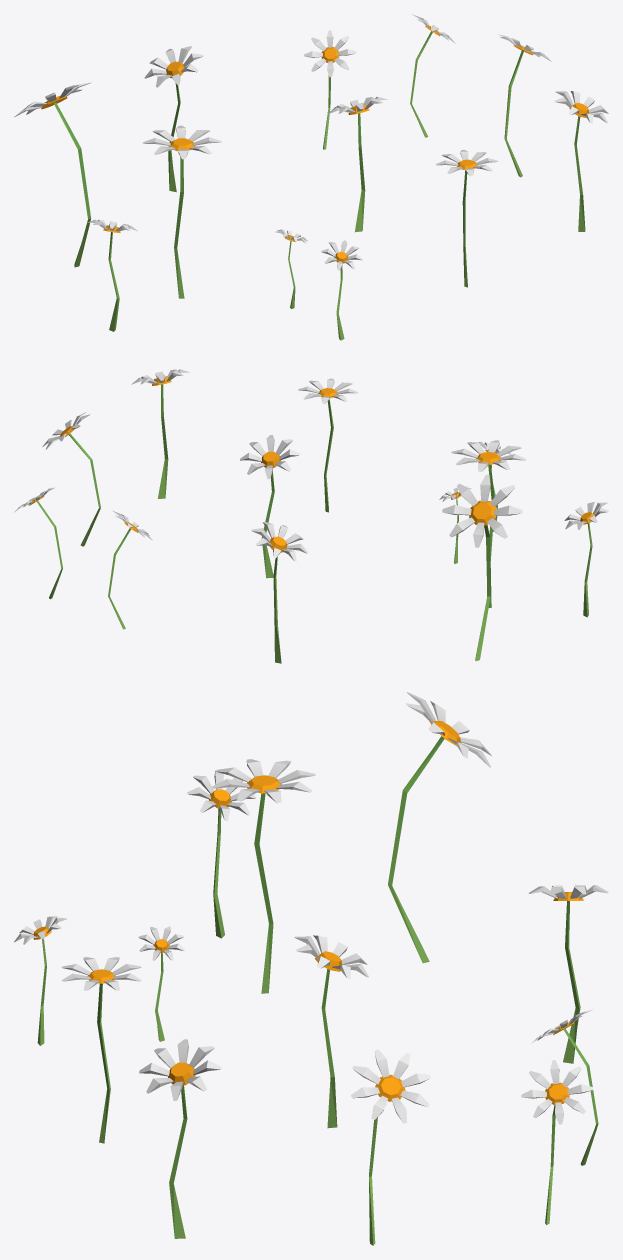
Rendered from flower_daisy.glb.
3 renders of one model, top to bottom at view 1: azimuth 30°, elevation 25°; view 2: azimuth 150°, elevation 25°; view 3: azimuth 270°, elevation 25°, orthographic. The views are drawn at different scales.
Parts seen in each view (by area): view 1: Flower 4_4_A; view 2: Flower 4_4_A; view 3: Flower 4_4_A.
Boxes of the visible parts, bbox=[...] form: Flower 4_4_A: bbox=[14, 14, 608, 340]; Flower 4_4_A: bbox=[14, 369, 608, 663]; Flower 4_4_A: bbox=[14, 692, 608, 1245].
Bounding box in the file's own units: 0.736 × 0.2551 × 0.5398.
1 material, 1 textured.
